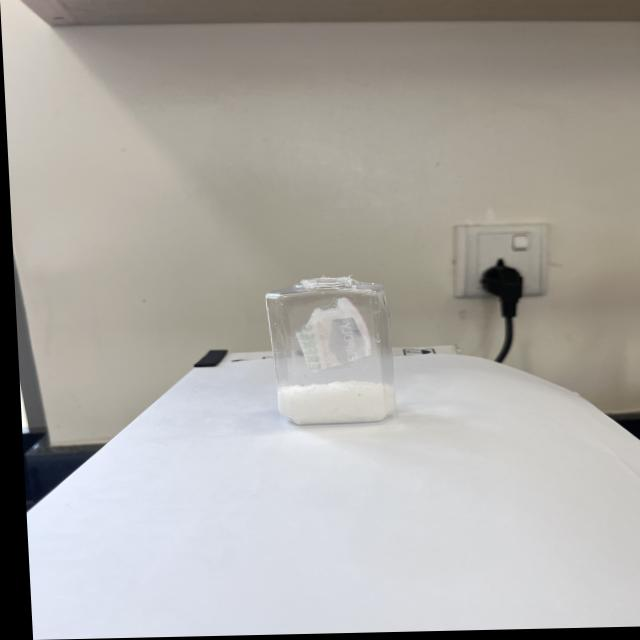salt: (268, 379, 393, 430)
